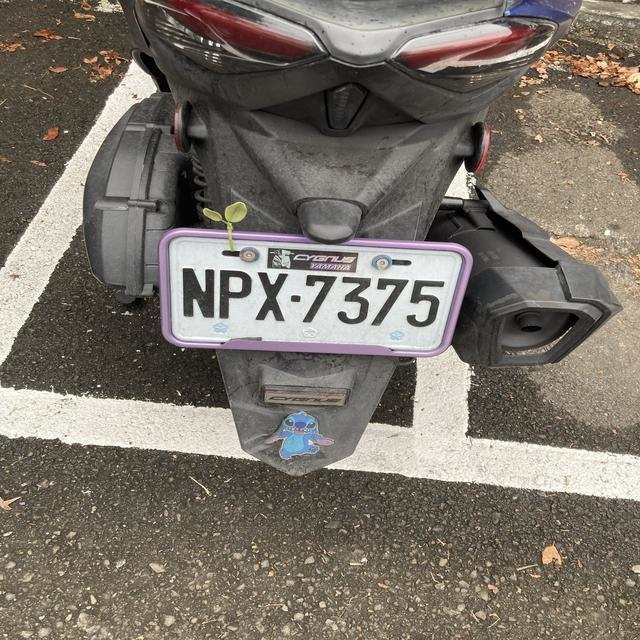license: (164, 248, 453, 343)
